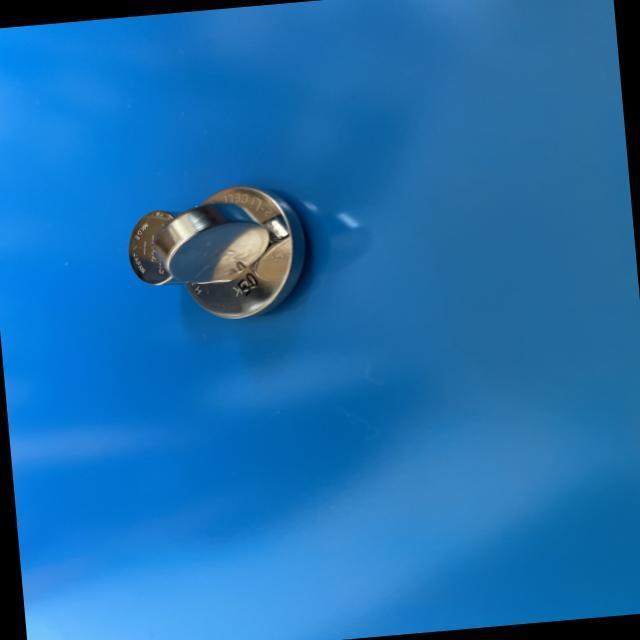COIN: (177, 175, 316, 323), (156, 196, 274, 286), (120, 202, 212, 290)
